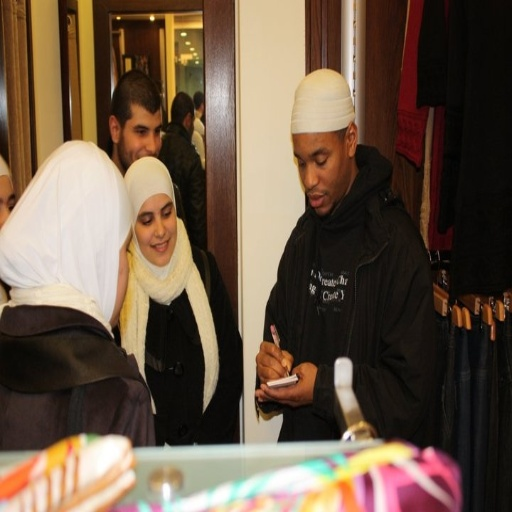hand: (253, 360, 318, 411)
